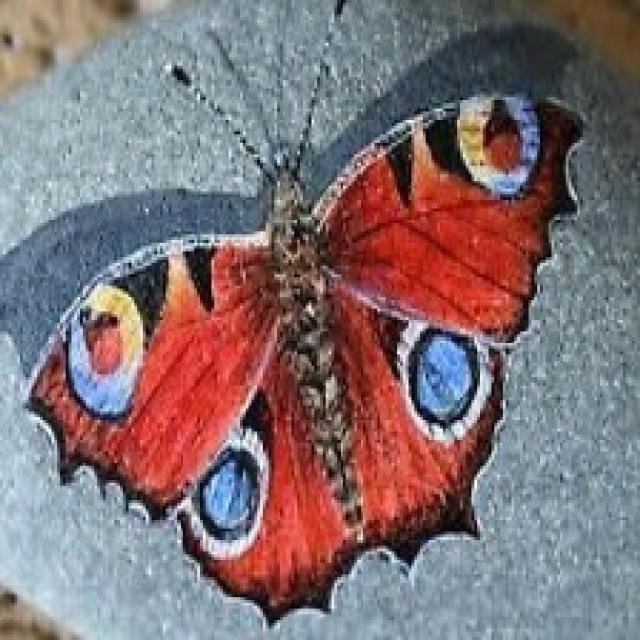butterfly: (20, 8, 586, 626)
